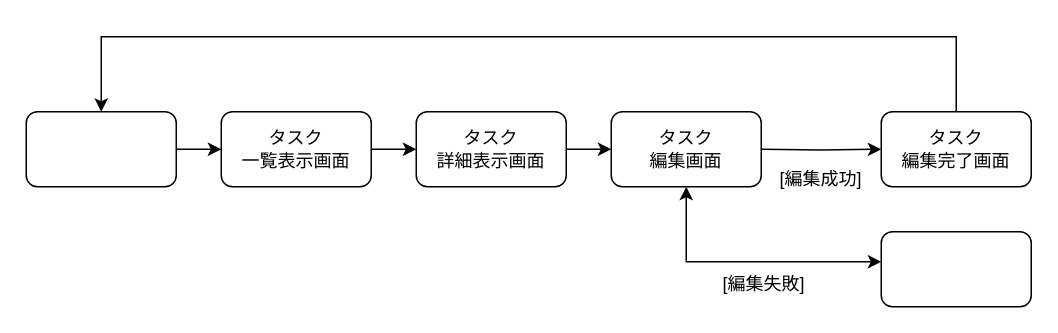
Image size: 1058x333. Some labels were removed from this diagram. Each missing label, with the centre of its shape:
タスク 編集エラー画面: the point at 955,268
メニュー画面: the point at 100,148
